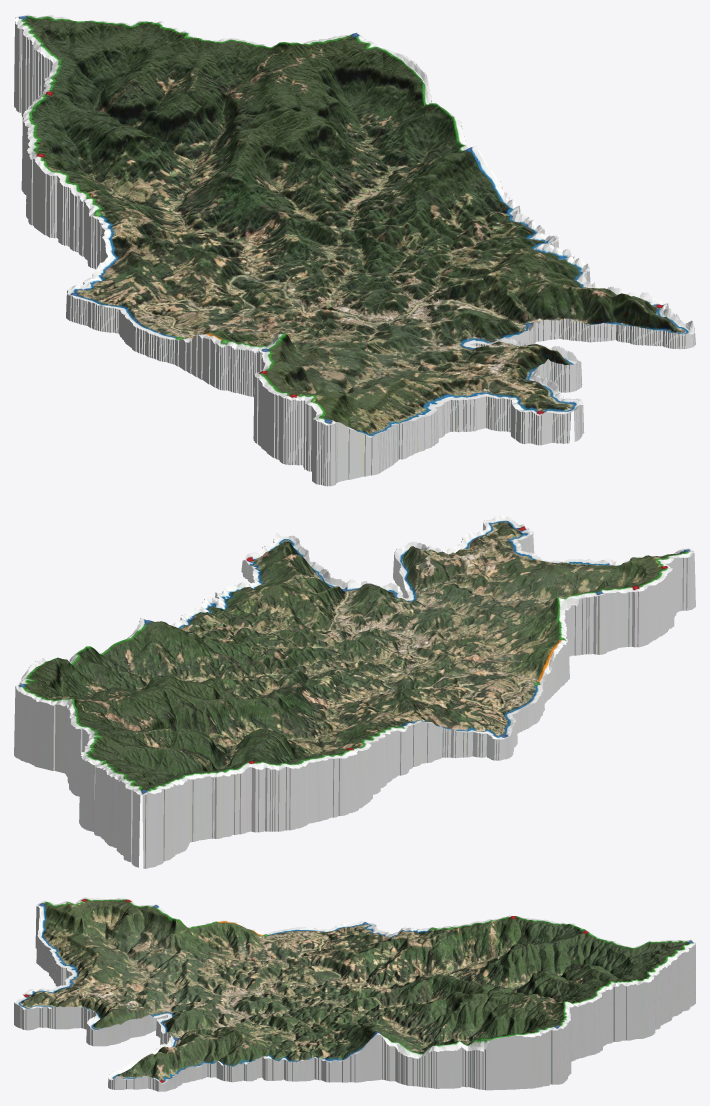
3 views of the same model, one above another, from view 1: azimuth 30°, elevation 25°; view 2: azimuth 150°, elevation 25°; view 3: azimuth 270°, elevation 25° (orthographic). The views are drawn at different scales.
Bounding box in the file's own units: 0.9999 × 0.1827 × 1.87.
Materials: 1 (1 with a texture image).
